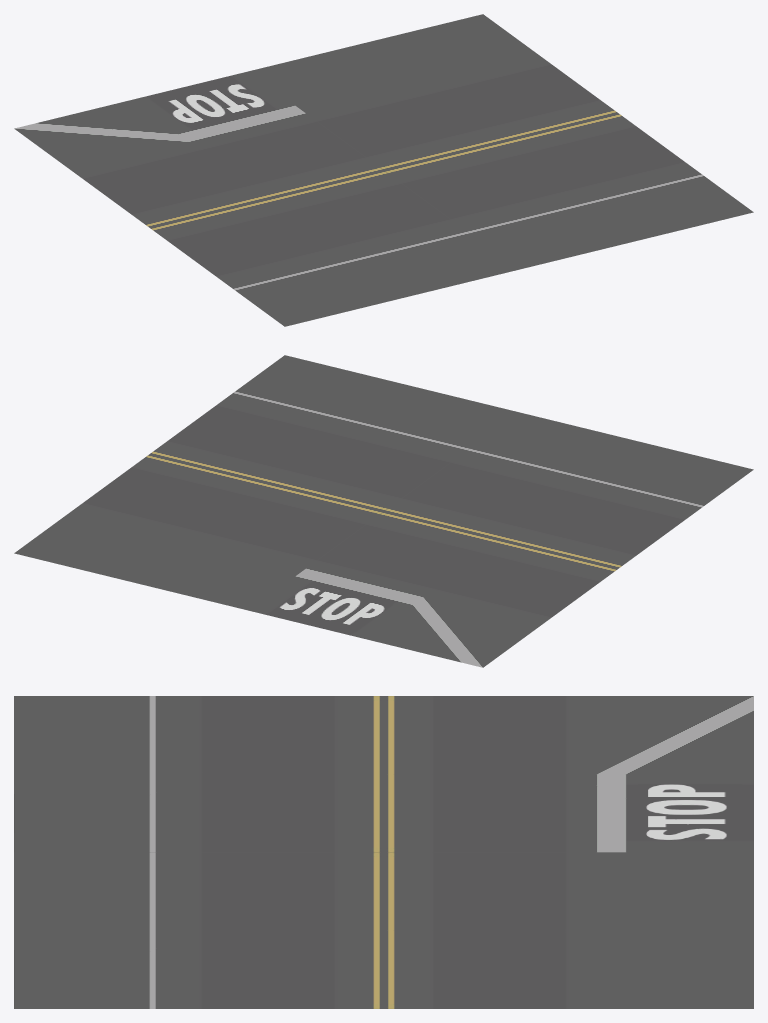
File: SM_road_02.glb
3 views of the same model, one above another, from view 1: azimuth 30°, elevation 25°; view 2: azimuth 150°, elevation 25°; view 3: azimuth 270°, elevation 25° (orthographic). The views are drawn at different scales.
Visible parts, largest first — view 1: SM_road_02; view 2: SM_road_02; view 3: SM_road_02.
Part boxes in pixels (x1=…): SM_road_02: x1=14, y1=14, x2=753, y2=326; SM_road_02: x1=14, y1=355, x2=753, y2=667; SM_road_02: x1=14, y1=696, x2=753, y2=1008.
Size of the model in its own units: 16 by 9.8e-16 by 16.
Materials: 1 (1 with a texture image).
